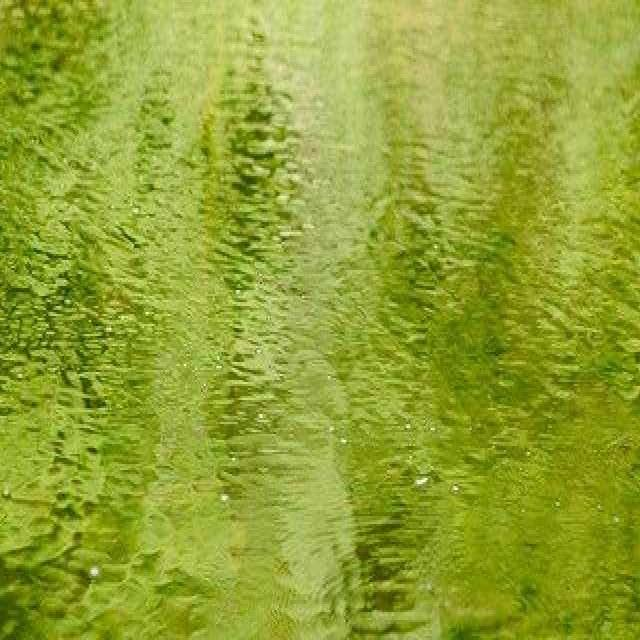Ponds: (2, 2, 640, 640)
